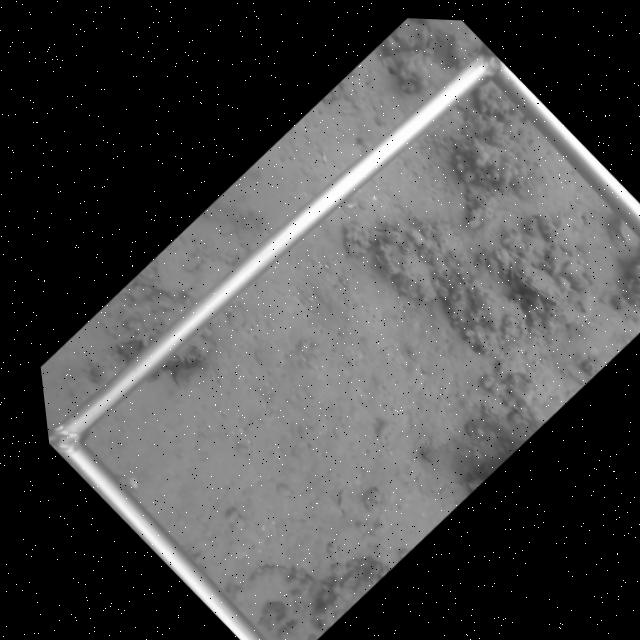Oyster-Closed: (510, 253, 565, 307)
